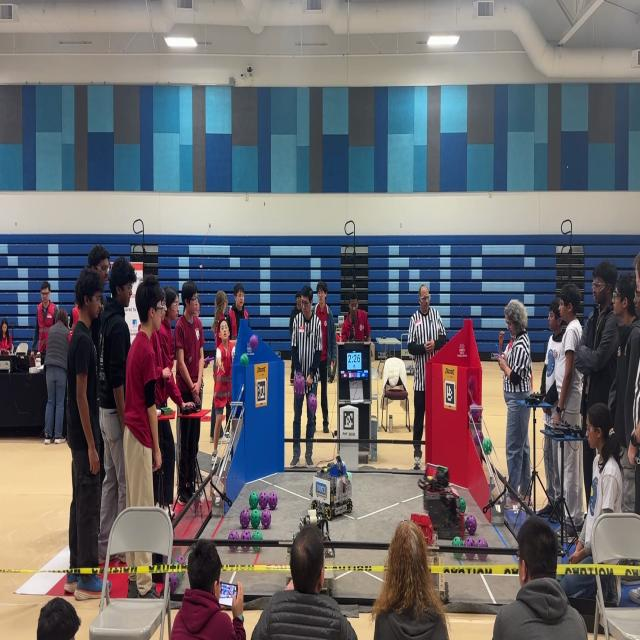artifact_green: (251, 509, 261, 528), (169, 573, 178, 594), (482, 438, 492, 455), (249, 492, 258, 510), (459, 497, 466, 513), (477, 538, 488, 548), (241, 530, 251, 541), (177, 571, 185, 584), (252, 531, 262, 541), (452, 537, 463, 546), (241, 354, 248, 365), (347, 472, 351, 479)
artifact_purple: (468, 375, 477, 404), (465, 515, 477, 535), (470, 403, 481, 423), (239, 509, 250, 529), (294, 376, 304, 397), (472, 428, 483, 446), (308, 393, 317, 414), (169, 573, 178, 594), (261, 510, 271, 528), (259, 491, 268, 509), (268, 492, 277, 509), (250, 334, 258, 349), (241, 530, 252, 540), (228, 530, 239, 540), (477, 538, 488, 548), (175, 555, 186, 565), (465, 538, 475, 547)
